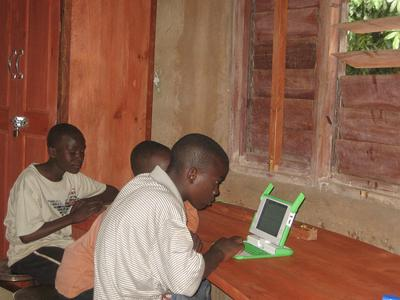person: (92, 134, 246, 299)
